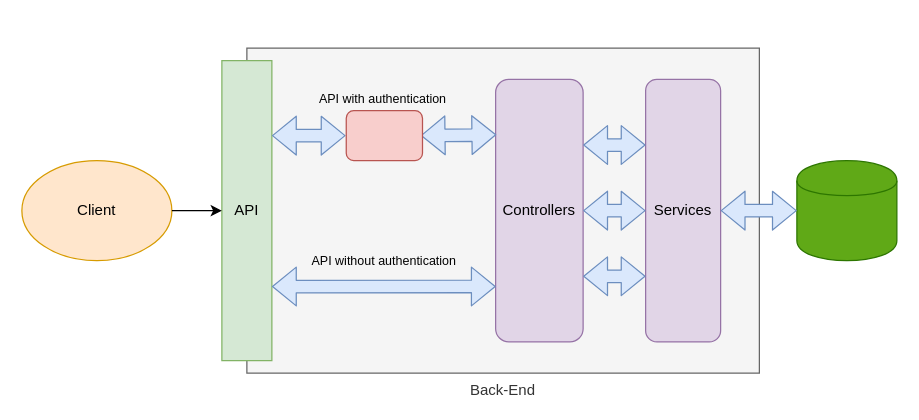
The diagram is 919 pixels wide and 420 high, and some of its shapes have lost their labels. The shapes that lost their labels are listed below. From the top down, each one's centre as x and y in pixels, then its label:
the point at 383,135: Auth Filter
the point at 846,210: Data Base
